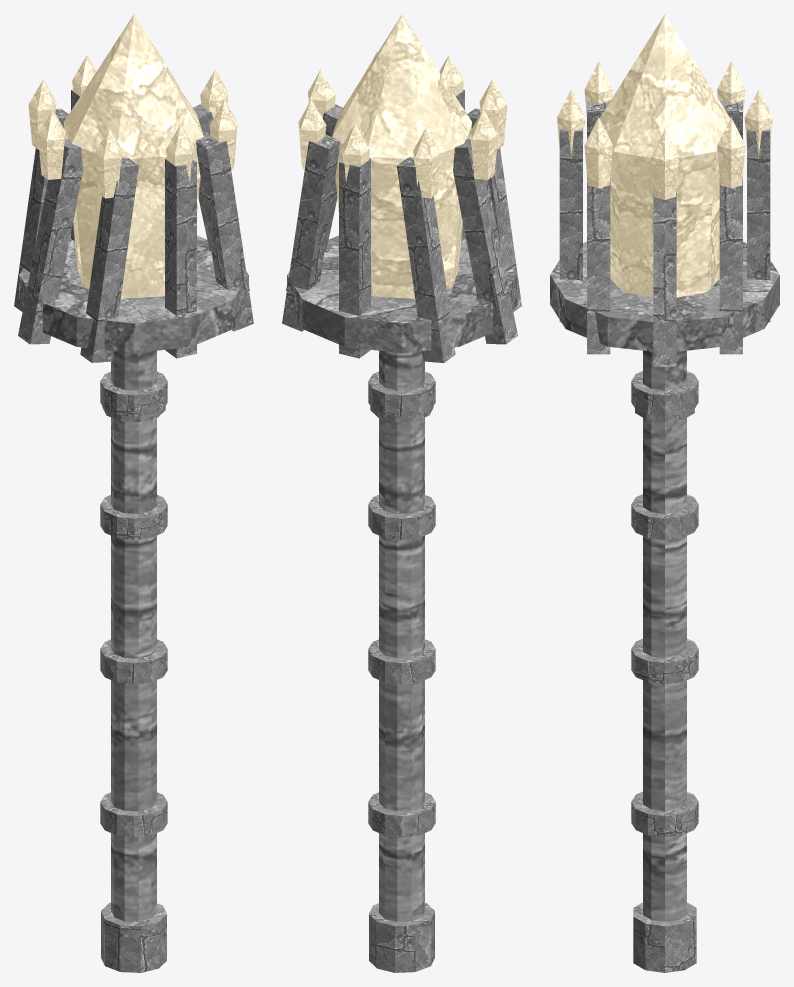
The model's file is Magenheim_Staff_Earth_Master.glb.
3 renders of one model, left to right at view 1: azimuth 30°, elevation 25°; view 2: azimuth 150°, elevation 25°; view 3: azimuth 270°, elevation 25°, orthographic.
Visible parts, largest first — view 1: shaft, world-core, world-ring, world-rib-4, world-rib-3, world-rib-1, world-rib-2, pommel, shaft-band-0.51, shaft-band-0.22, shaft-band--0.48, shaft-band--0.12 (+9 smaller); view 2: shaft, world-core, world-ring, world-rib-4, world-rib-5, world-rib-7, world-rib-6, pommel, shaft-band-0.51, shaft-band-0.22, shaft-band--0.48, shaft-band--0.12 (+9 smaller); view 3: world-core, shaft, world-ring, world-rib-0, world-rib-1, world-rib-7, pommel, world-rib-2, world-rib-6, shaft-band-0.22, shaft-band-0.51, shaft-band--0.12 (+8 smaller).
Boxes of the visible parts, bbox=[...] form: shaft: bbox=[111, 350, 156, 921]; world-core: bbox=[64, 14, 203, 298]; world-ring: bbox=[19, 235, 248, 353]; world-rib-4: bbox=[18, 139, 82, 344]; world-rib-3: bbox=[80, 157, 138, 363]; world-rib-1: bbox=[196, 134, 253, 331]; world-rib-2: bbox=[165, 158, 196, 358]; pommel: bbox=[101, 902, 166, 972]; shaft-band-0.51: bbox=[100, 371, 167, 416]; shaft-band-0.22: bbox=[100, 495, 167, 539]; shaft-band--0.48: bbox=[100, 792, 167, 837]; shaft-band--0.12: bbox=[100, 639, 167, 684]; shaft: bbox=[379, 350, 424, 921]; world-core: bbox=[332, 14, 471, 298]; world-ring: bbox=[287, 235, 516, 353]; world-rib-4: bbox=[453, 139, 517, 344]; world-rib-5: bbox=[397, 157, 455, 363]; world-rib-7: bbox=[282, 134, 339, 331]; world-rib-6: bbox=[339, 158, 370, 358]; pommel: bbox=[369, 902, 434, 972]; shaft-band-0.51: bbox=[368, 371, 435, 416]; shaft-band-0.22: bbox=[368, 495, 435, 539]; shaft-band--0.48: bbox=[368, 792, 435, 837]; shaft-band--0.12: bbox=[368, 639, 435, 684]; world-core: bbox=[599, 14, 730, 297]; shaft: bbox=[643, 350, 686, 921]; world-ring: bbox=[550, 241, 779, 351]; world-rib-0: bbox=[653, 189, 676, 366]; world-rib-1: bbox=[587, 177, 610, 354]; world-rib-7: bbox=[719, 177, 742, 354]; pommel: bbox=[633, 902, 696, 972]; world-rib-2: bbox=[559, 128, 582, 322]; world-rib-6: bbox=[747, 128, 770, 322]; shaft-band-0.22: bbox=[631, 494, 698, 539]; shaft-band-0.51: bbox=[631, 371, 698, 416]; shaft-band--0.12: bbox=[631, 638, 698, 684].
Bounding box in the file's own units: 0.5425 × 2.22 × 0.49.
Materials: 4 (4 with a texture image).
